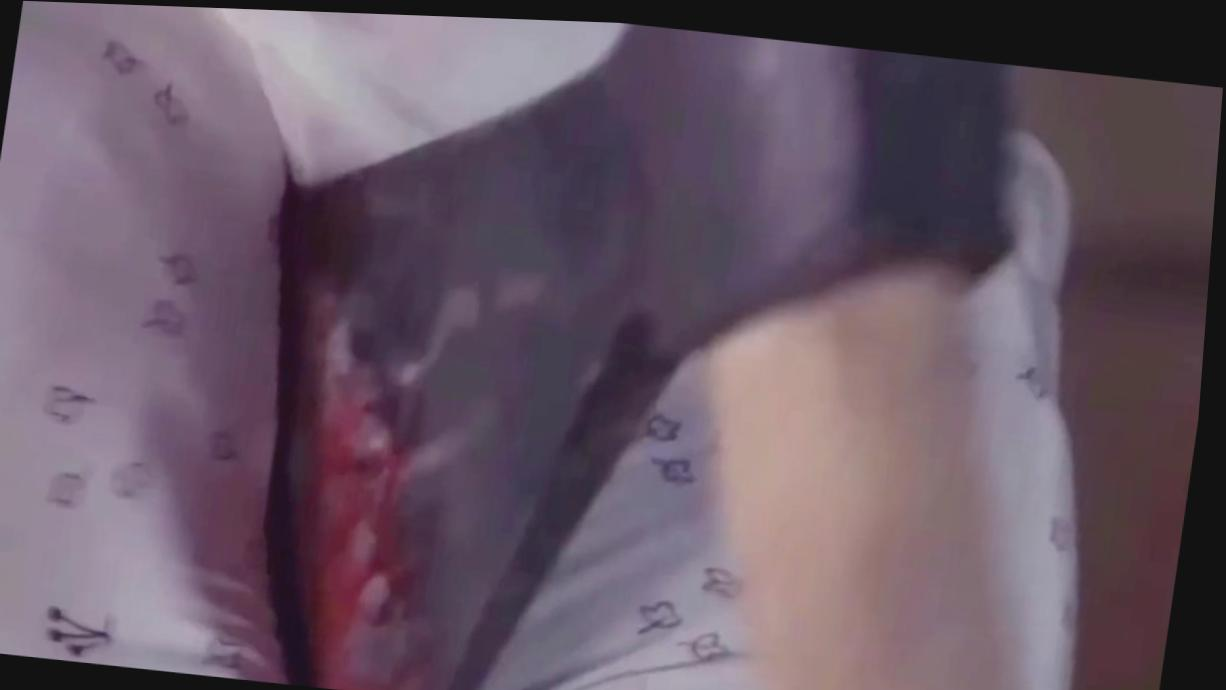Fire: (286, 188, 454, 690)
